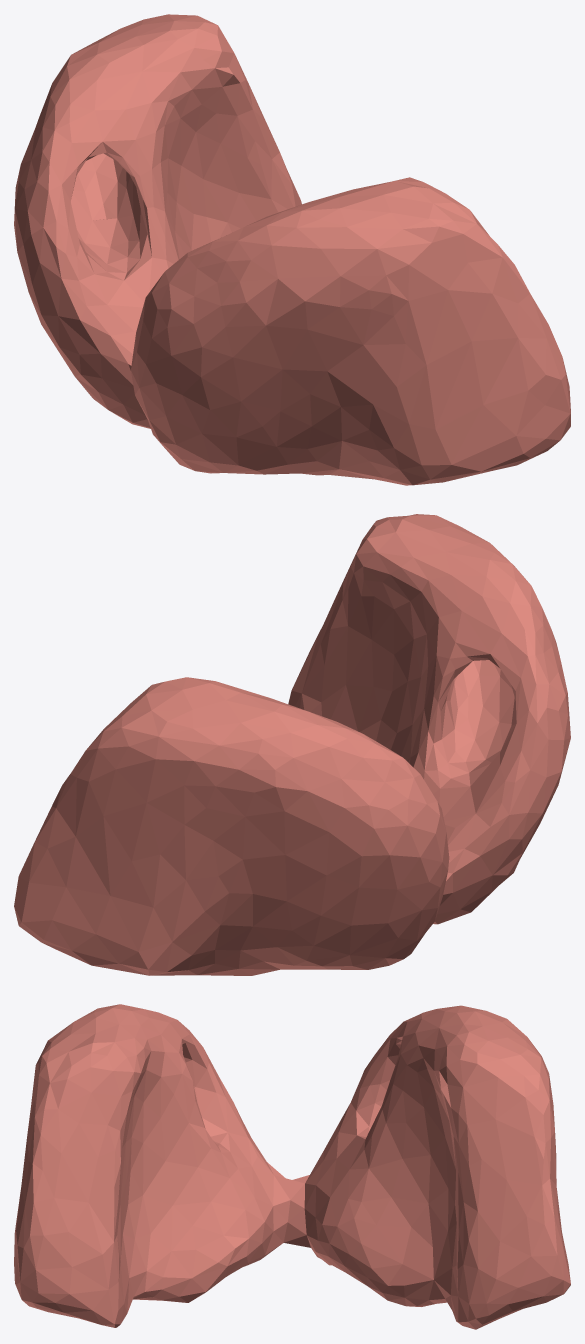
3 views of the same model, one above another, from view 1: azimuth 30°, elevation 25°; view 2: azimuth 150°, elevation 25°; view 3: azimuth 270°, elevation 25° (orthographic). The views are drawn at different scales.
Parts seen in each view (by area): view 1: 523.obj; view 2: 523.obj; view 3: 523.obj.
Part boxes in pixels (x1,y1,x2,y2): 523.obj: (14, 14, 570, 485); 523.obj: (14, 514, 570, 975); 523.obj: (14, 1004, 570, 1329).
Size of the model in its own units: 1115 by 999 by 1845.
